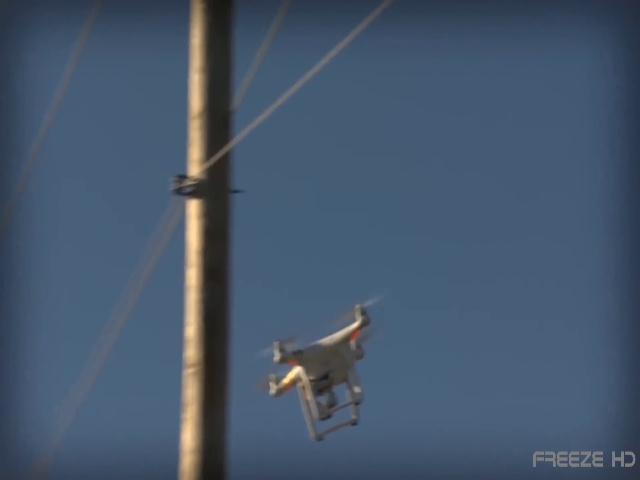drone: (249, 289, 396, 446)
